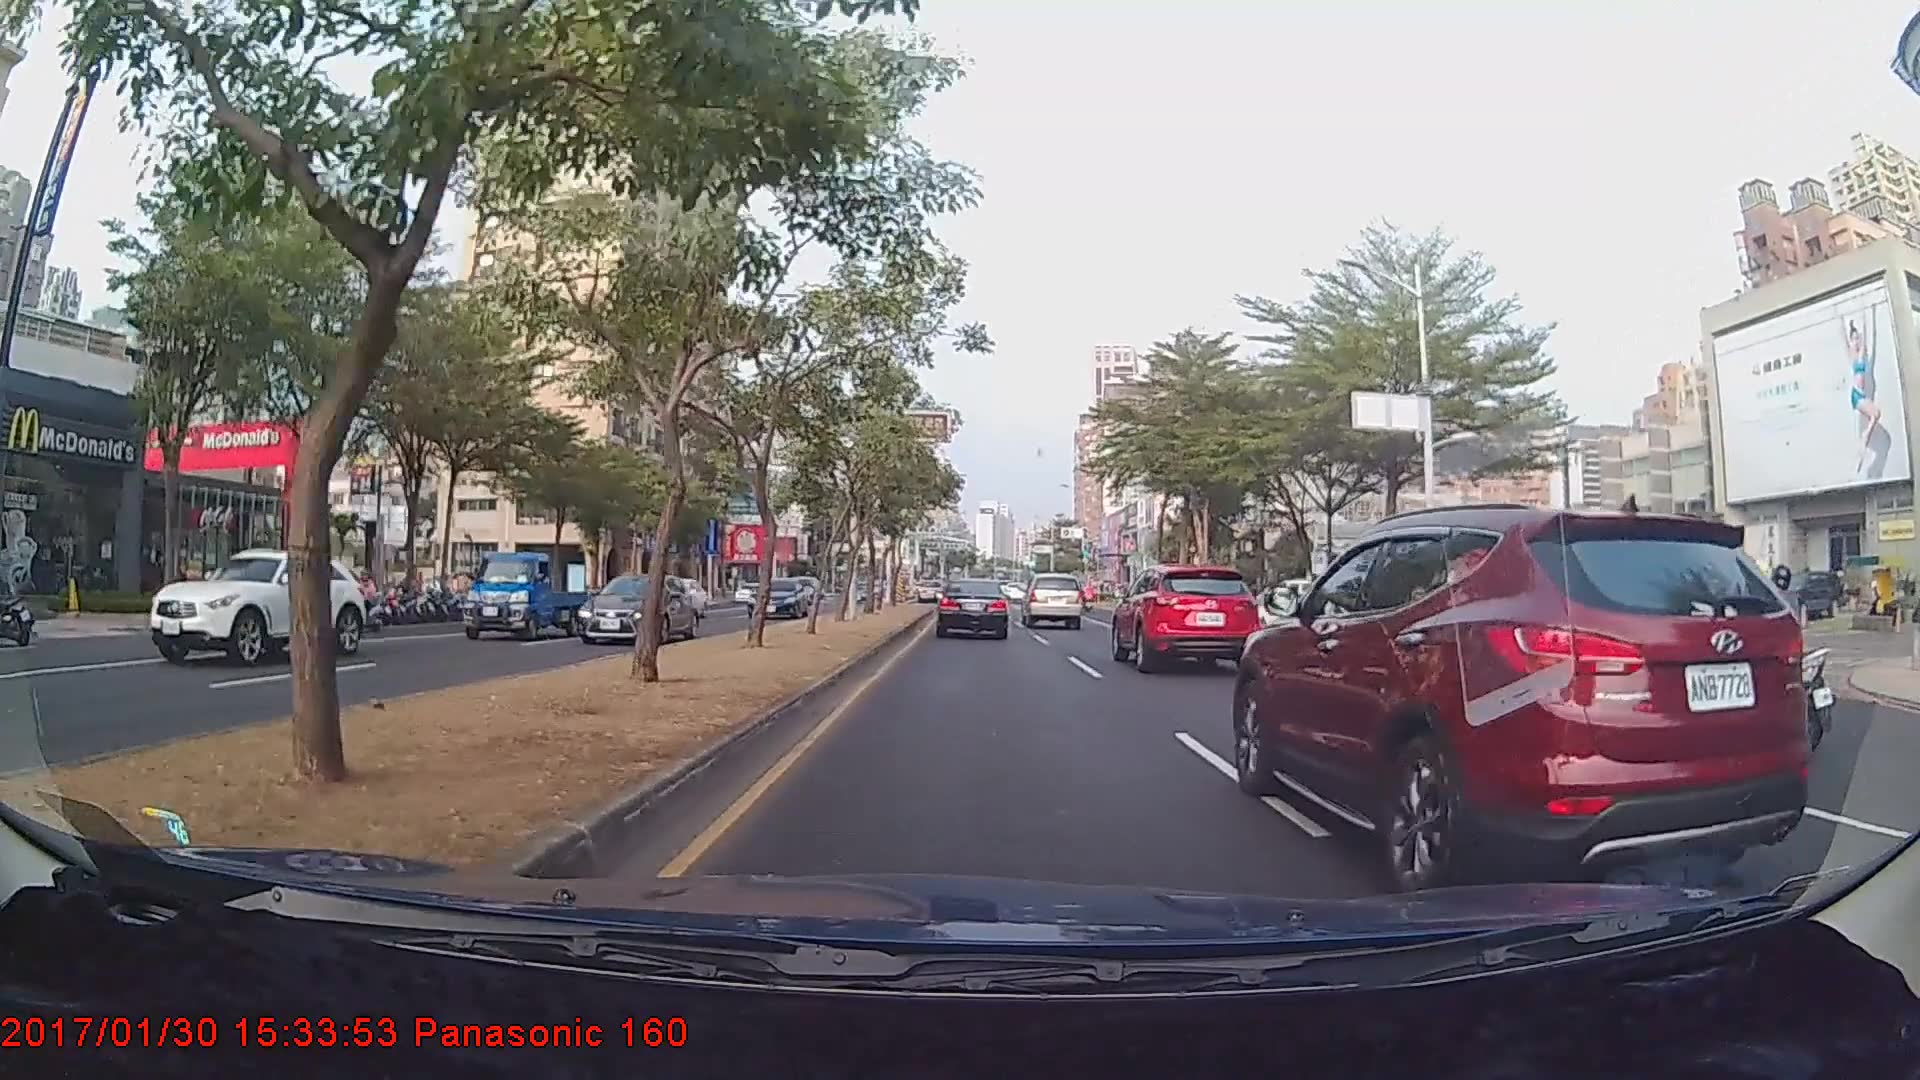vehicle: (1232, 502, 1809, 910), (142, 546, 364, 667), (1109, 564, 1262, 674), (459, 550, 592, 640), (579, 570, 699, 641), (935, 578, 1010, 640), (1022, 572, 1083, 629), (746, 576, 810, 620)
